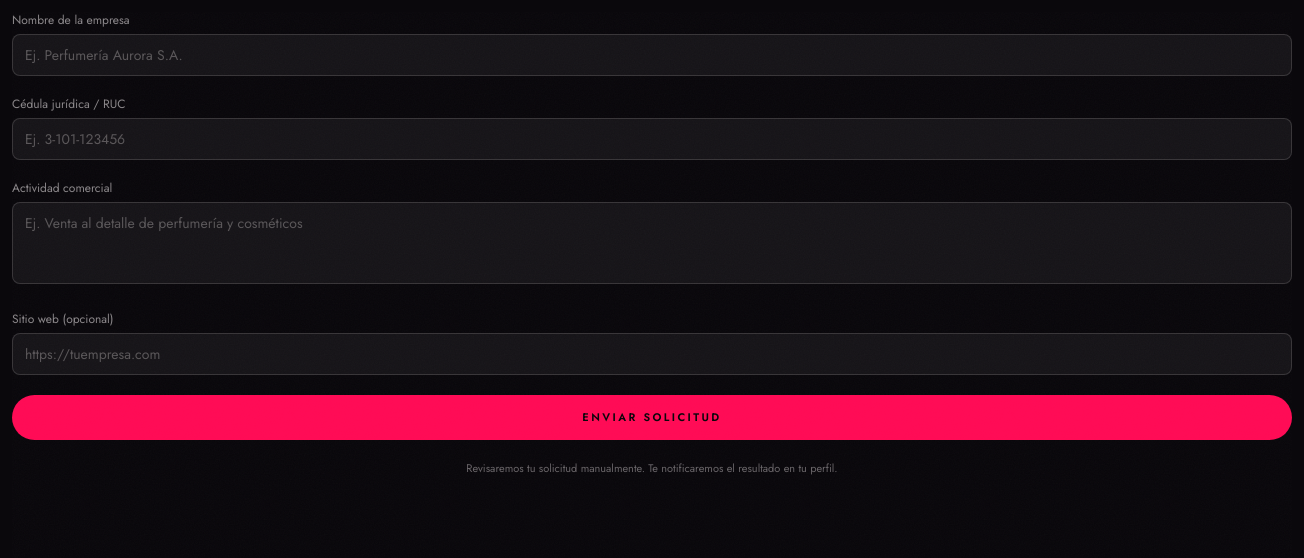
Scenario: WholesaleApplicationForm › shows validation errors and does NOT submit when fields are empty
This screenshot has width=1304, height=558.
Click the button "Enviar solicitud" at (652, 417), box left=12, top=395, right=1292, bottom=440
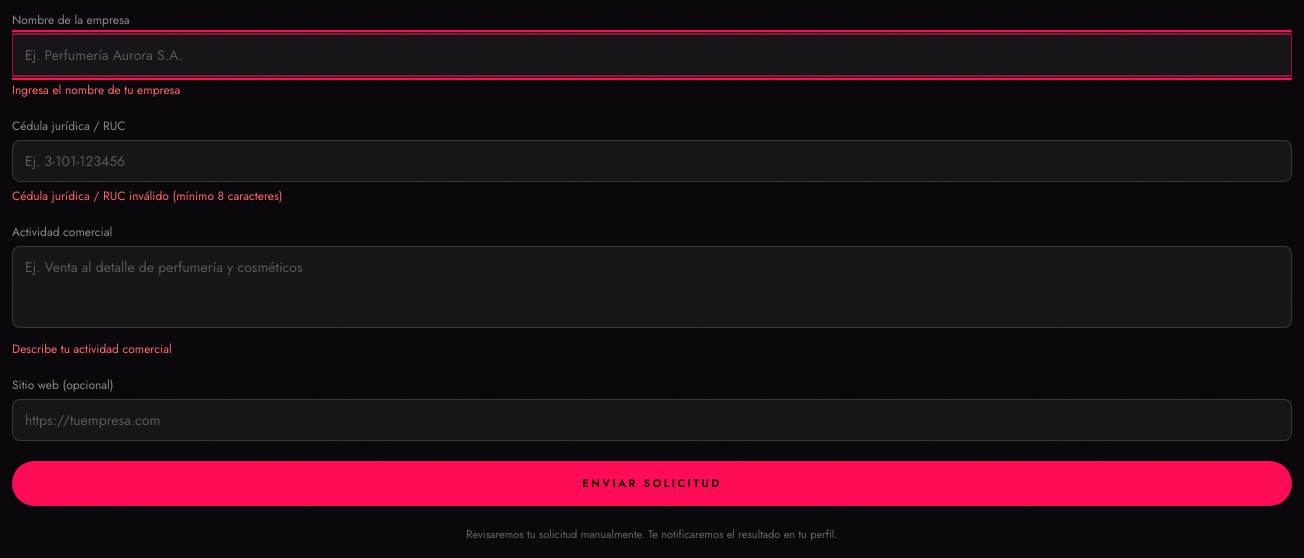
Now the text "Ingresa el nombre de tu empresa" is shown, box left=12, top=81, right=180, bottom=99
